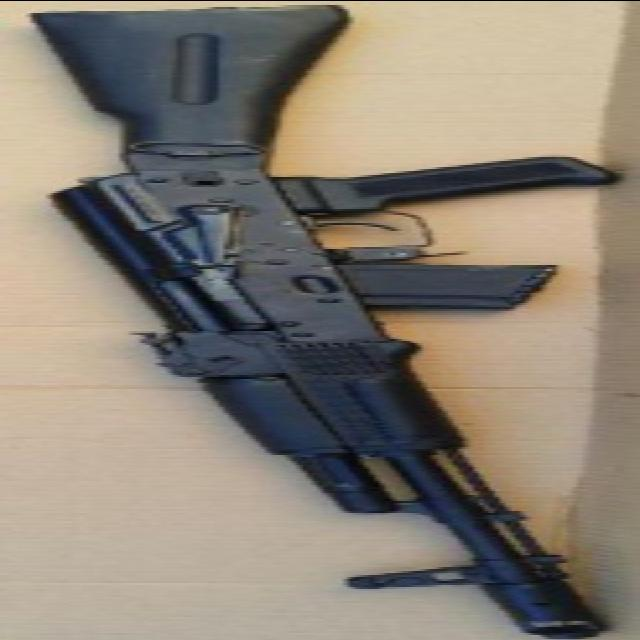rifle: (18, 9, 610, 639)
